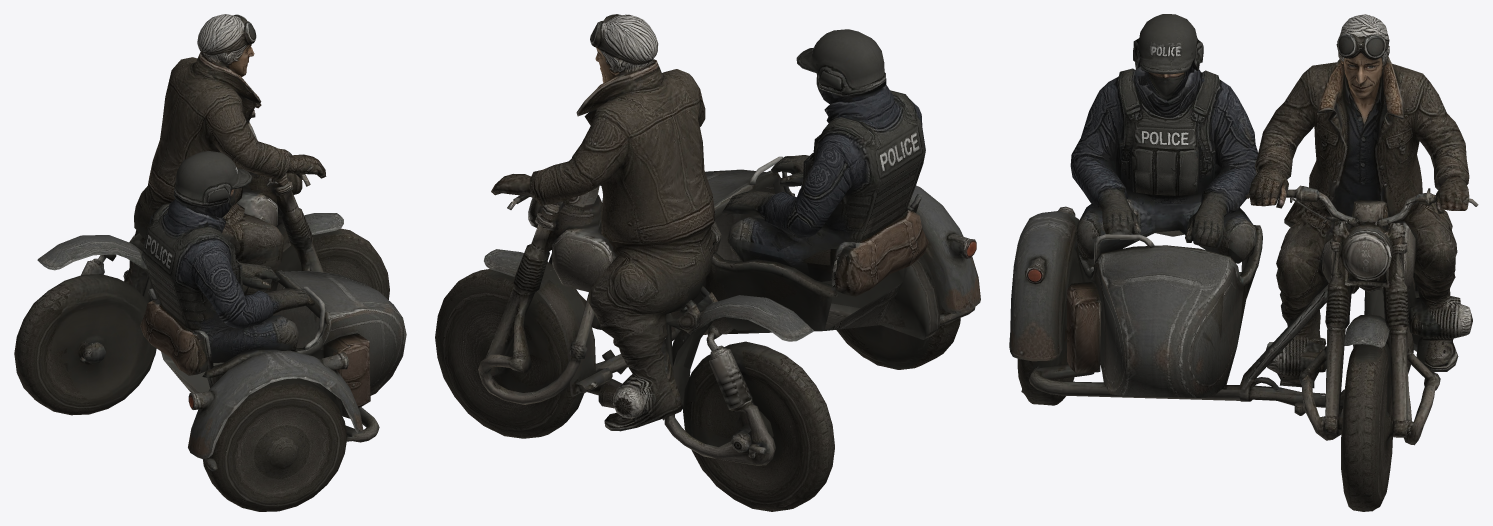
The model's file is Motorcycle+sidecar.glb.
3 renders of one model, left to right at view 1: azimuth 30°, elevation 25°; view 2: azimuth 150°, elevation 25°; view 3: azimuth 270°, elevation 25°, orthographic. The views are drawn at different scales.
Visible parts, largest first — view 1: sidecar, rear_wheel, sidecar_wheel, police_body, driver_body_upper, driver_body_lower, police_arms, motorcycle body, front_wheel, handlebar, r_arm_driver; view 2: sidecar, driver_body_upper, police_body, motorcycle body, driver_body_lower, rear_wheel, front_wheel, handlebar, police_arms, sidecar_wheel, l_arm_driver, l_hand_driver; view 3: sidecar, police_body, driver_body_lower, driver_body_upper, police_arms, handlebar, front_wheel, motorcycle body, l_arm_driver, sidecar_wheel, r_arm_driver, l_hand_driver.
Boxes of the visible parts, bbox=[...] form: sidecar: bbox=[140, 270, 406, 459]; rear_wheel: bbox=[14, 274, 156, 415]; sidecar_wheel: bbox=[203, 378, 347, 511]; police_body: bbox=[142, 151, 299, 377]; driver_body_upper: bbox=[152, 14, 261, 192]; driver_body_lower: bbox=[123, 52, 290, 301]; police_arms: bbox=[191, 234, 314, 328]; motorcycle body: bbox=[37, 152, 343, 301]; front_wheel: bbox=[275, 228, 389, 299]; handlebar: bbox=[248, 118, 323, 272]; r_arm_driver: bbox=[270, 154, 326, 184]; sidecar: bbox=[576, 156, 980, 408]; driver_body_upper: bbox=[576, 14, 712, 241]; police_body: bbox=[726, 29, 925, 276]; motorcycle body: bbox=[484, 186, 813, 465]; driver_body_lower: bbox=[588, 122, 721, 431]; rear_wheel: bbox=[683, 341, 834, 511]; front_wheel: bbox=[435, 269, 584, 438]; handlebar: bbox=[478, 185, 615, 404]; police_arms: bbox=[721, 99, 922, 266]; sidecar_wheel: bbox=[836, 256, 975, 369]; l_arm_driver: bbox=[529, 143, 620, 205]; l_hand_driver: bbox=[491, 174, 534, 198]; sidecar: bbox=[1009, 206, 1344, 415]; police_body: bbox=[1075, 14, 1257, 260]; driver_body_lower: bbox=[1246, 87, 1472, 388]; driver_body_upper: bbox=[1289, 14, 1446, 214]; police_arms: bbox=[1070, 76, 1257, 263]; handlebar: bbox=[1245, 185, 1478, 445]; front_wheel: bbox=[1341, 331, 1393, 511]; motorcycle body: bbox=[1293, 198, 1419, 406]; l_arm_driver: bbox=[1412, 113, 1469, 184]; sidecar_wheel: bbox=[1017, 248, 1082, 405]; r_arm_driver: bbox=[1249, 166, 1298, 208]; l_hand_driver: bbox=[1434, 167, 1469, 214].
Size of the model in its own units: 0.9843 by 1 by 0.9883.
Materials: 23 (23 with a texture image).
